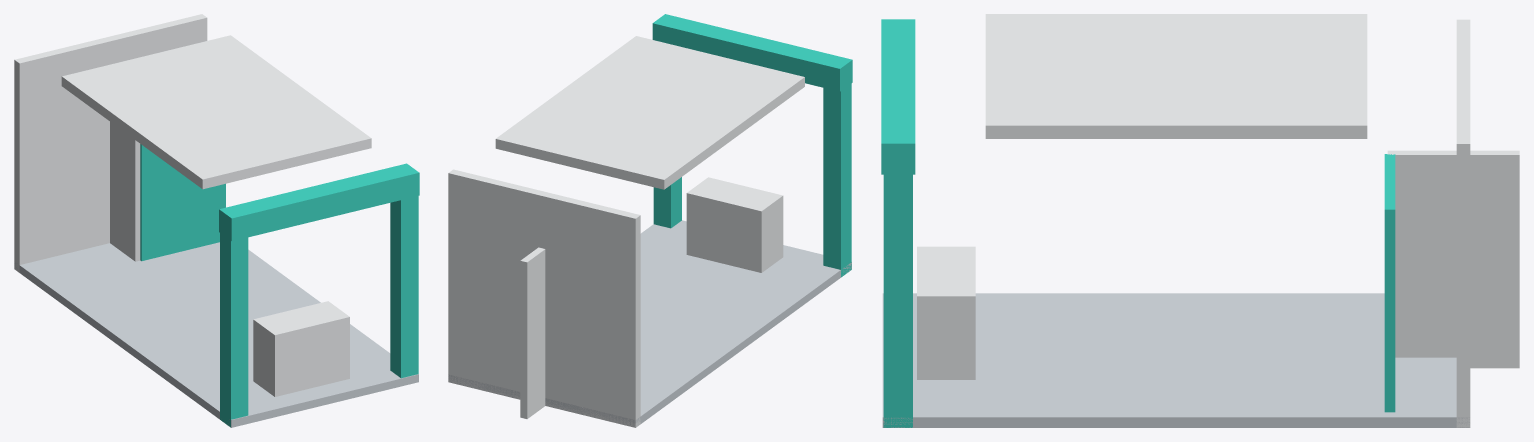
3 renders of one model, left to right at view 1: azimuth 30°, elevation 25°; view 2: azimuth 150°, elevation 25°; view 3: azimuth 270°, elevation 25°, orthographic. The views are drawn at different scales.
Parts seen in each view (by area): view 1: Exhibition Booth Concept; view 2: Exhibition Booth Concept; view 3: Exhibition Booth Concept.
Boxes of the visible parts, x1,y1,x2,y2 form: Exhibition Booth Concept: (14,14,419,427); Exhibition Booth Concept: (448,14,852,427); Exhibition Booth Concept: (881,14,1519,427).
Size of the model in its own units: 3 by 3.34 by 6.52.
